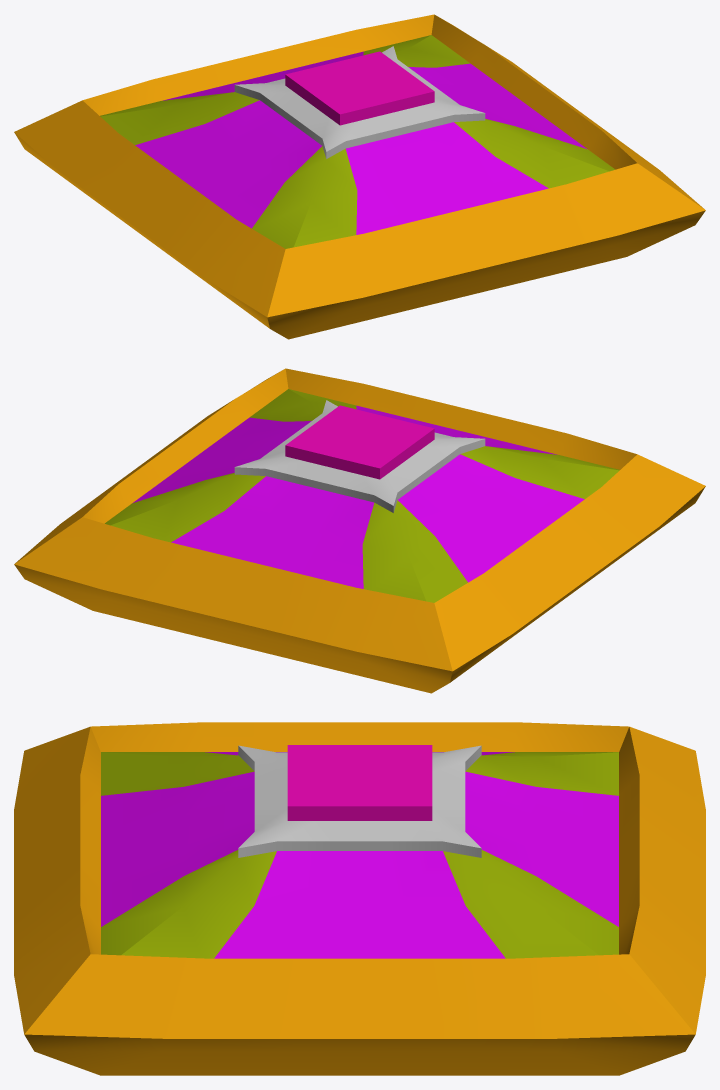
Rendered from Mine.fbx.
3 renders of one model, top to bottom at view 1: azimuth 30°, elevation 25°; view 2: azimuth 150°, elevation 25°; view 3: azimuth 270°, elevation 25°, orthographic. The views are drawn at different scales.
Parts seen in each view (by area): view 1: pCube2; view 2: pCube2; view 3: pCube2.
Boxes of the visible parts, x1,y1,x2,y2 form: pCube2: (14, 14, 705, 339); pCube2: (14, 368, 705, 693); pCube2: (14, 722, 705, 1075).
Bounding box in the file's own units: 8.59 × 8.59 × 2.61.
